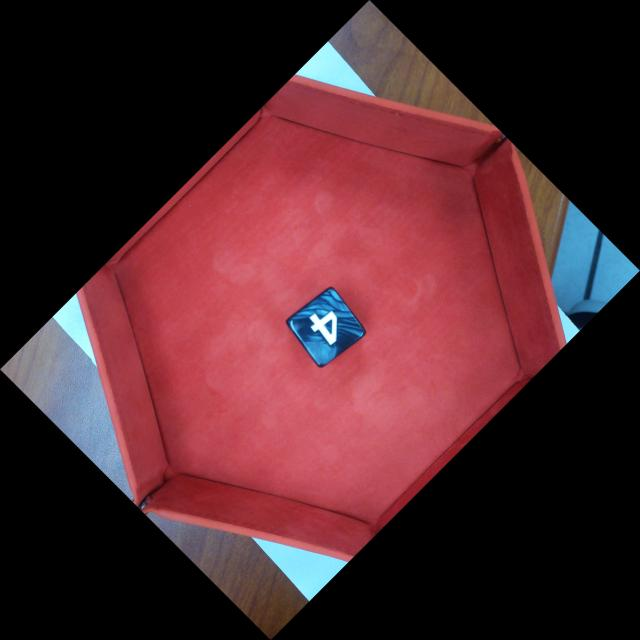dice: (285, 286, 367, 369)
